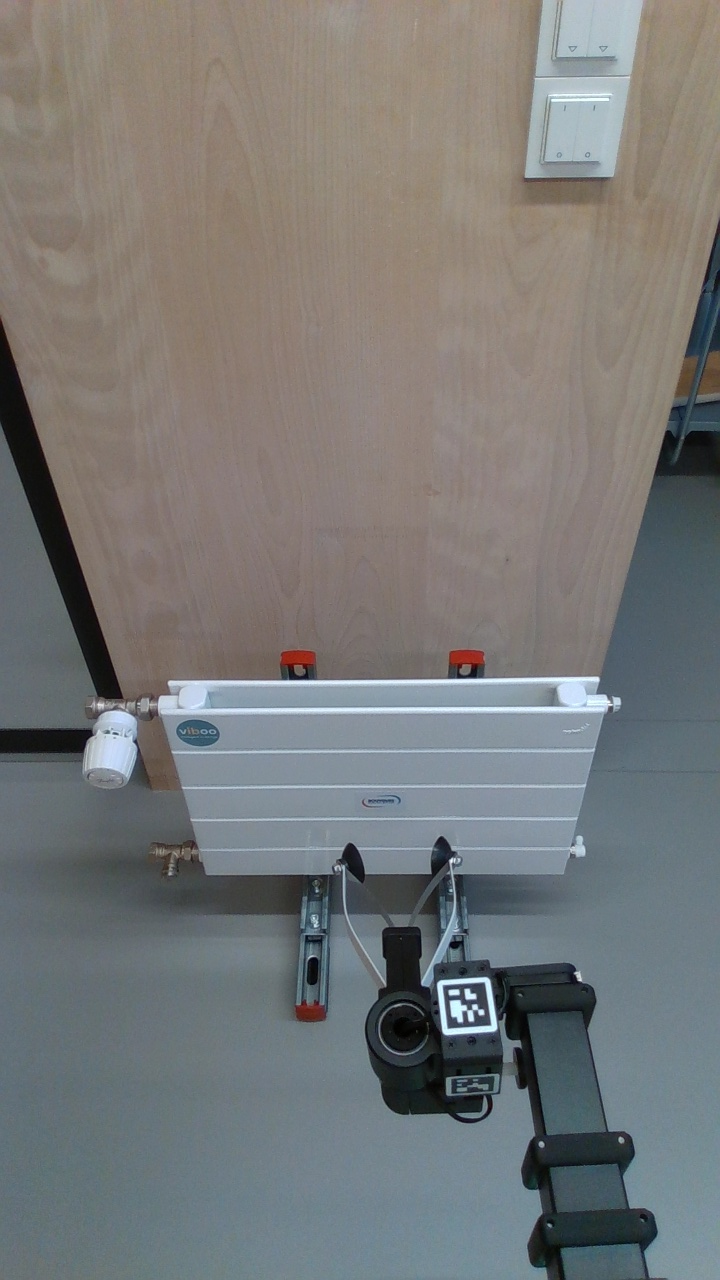Knob_Radiator: (72, 709, 153, 800)
Light_Switch: (529, 78, 624, 178)
Radiator: (147, 670, 616, 889)
